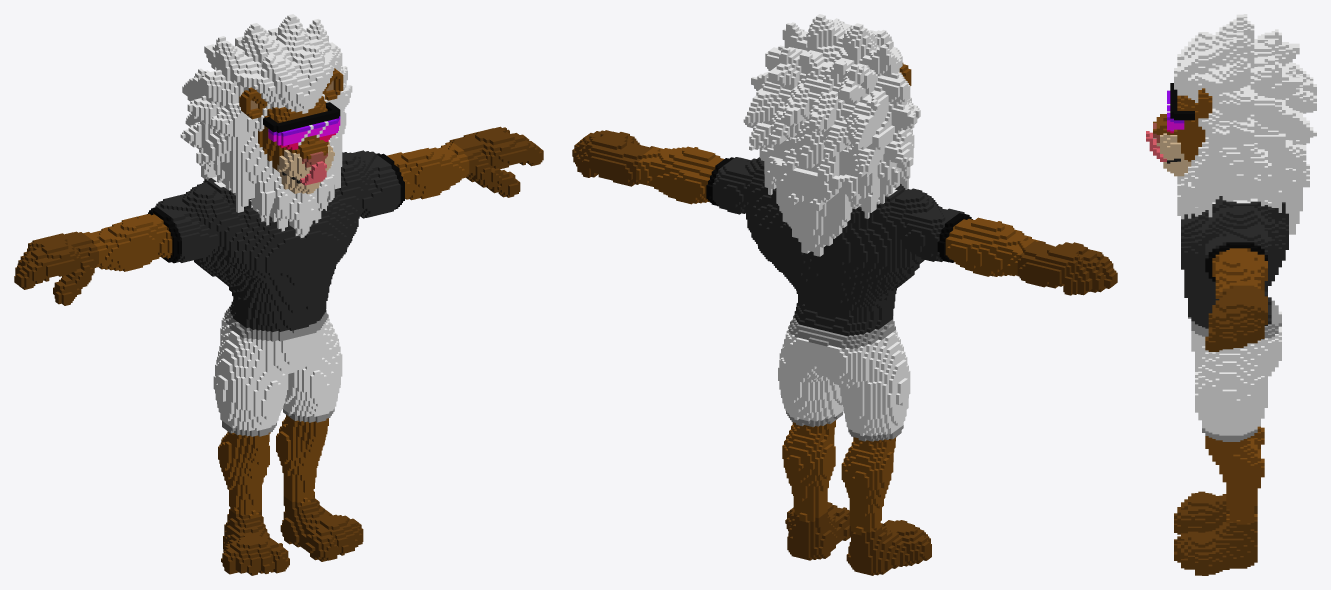
The model's file is 363-x8r1ZvUa.glb.
3 renders of one model, left to right at view 1: azimuth 30°, elevation 25°; view 2: azimuth 150°, elevation 25°; view 3: azimuth 270°, elevation 25°, orthographic. The views are drawn at different scales.
Visible parts, largest first — view 1: licking_nose; view 2: licking_nose; view 3: licking_nose.
Boxes of the visible parts, <box> form: licking_nose: <box>14,14,543,575</box>; licking_nose: <box>572,14,1117,575</box>; licking_nose: <box>1146,14,1316,575</box>.
Bounding box in the file's own units: 17.2 × 16.5 × 4.9.
5 materials, 5 textured.
